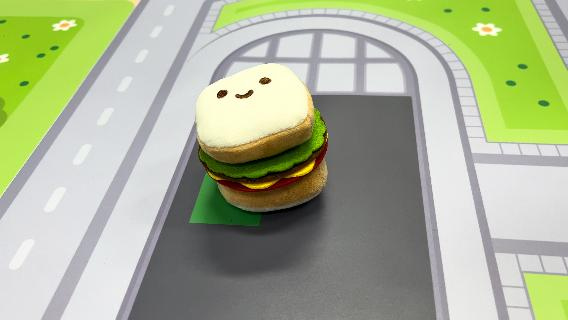sandwich: (193, 60, 331, 214)
